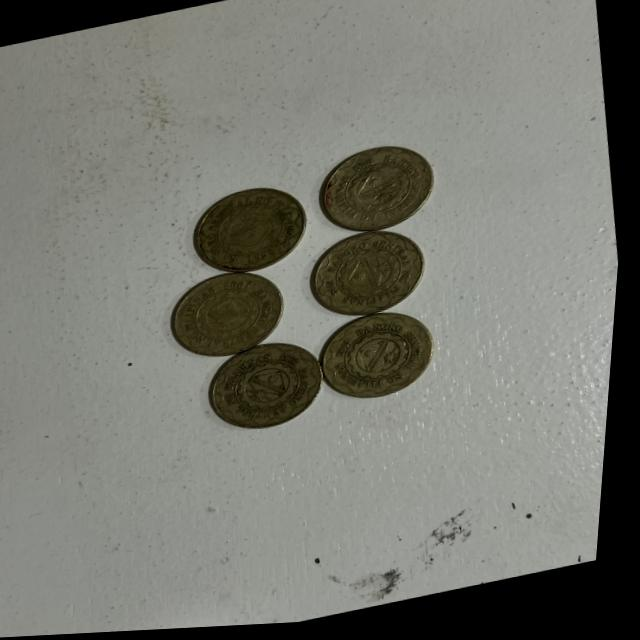5_Old_Back: (311, 303, 455, 417), (314, 133, 447, 246), (184, 187, 325, 285), (168, 260, 288, 372), (309, 218, 440, 318), (205, 340, 329, 441)
